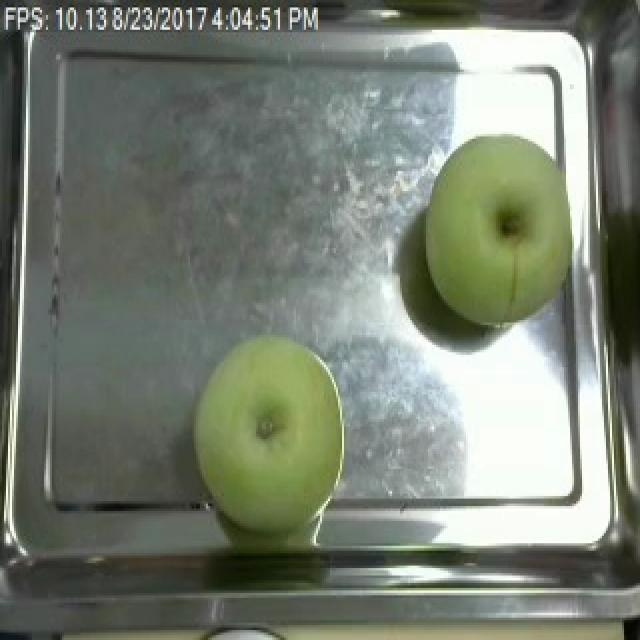50-_ripeness: (188, 333, 362, 566), (424, 123, 582, 346)
